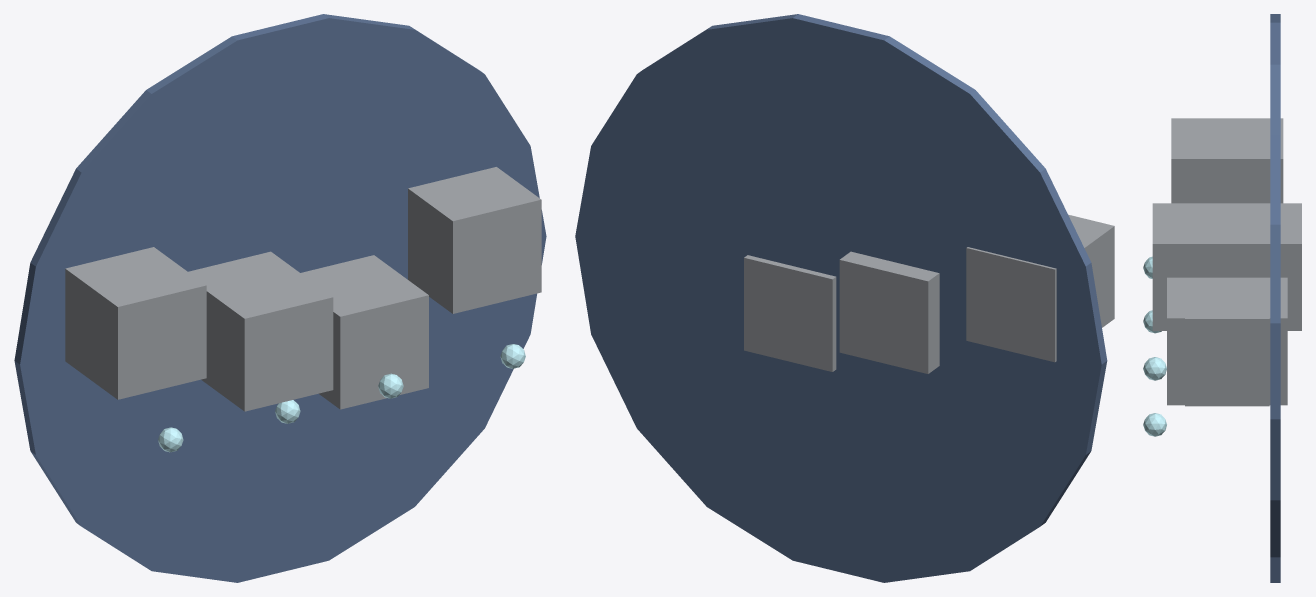
The model's file is 02_local_prop_cluster.glb.
3 views of the same model, side by side, from view 1: azimuth 30°, elevation 25°; view 2: azimuth 150°, elevation 25°; view 3: azimuth 270°, elevation 25° (orthographic). The views are drawn at different scales.
Parts seen in each view (by area): view 1: scatter_base, tech_crate_0, tech_crate_1, tech_crate_3, tech_crate_2; view 2: scatter_base, tech_crate_0, tech_crate_1, tech_crate_2; view 3: tech_crate_1, tech_crate_3, tech_crate_0, scatter_base, tech_crate_2, status_light_2, status_light_3.
Part boxes in pixels (x1,y1,x2,y2): scatter_base: (14, 14, 546, 582); tech_crate_0: (65, 247, 206, 399); tech_crate_1: (188, 251, 333, 411); tech_crate_3: (408, 167, 541, 313); tech_crate_2: (300, 255, 428, 409); scatter_base: (575, 14, 1107, 582); tech_crate_0: (966, 214, 1114, 362); tech_crate_1: (839, 251, 939, 373); tech_crate_2: (744, 255, 836, 371); tech_crate_1: (1152, 203, 1301, 330); tech_crate_3: (1185, 278, 1269, 406); tech_crate_0: (1171, 118, 1283, 203); scatter_base: (1270, 14, 1280, 582); tech_crate_2: (1167, 277, 1287, 405); status_light_2: (1143, 357, 1166, 380); status_light_3: (1143, 413, 1166, 436).
Size of the model in its own units: 1.9 by 1.87 by 0.5278.
